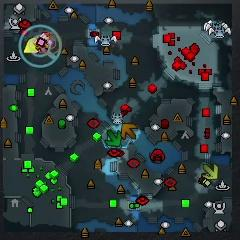p4: (23, 38, 41, 54)
x2: (203, 163, 219, 180)
x3: (107, 133, 117, 140)
x4: (106, 130, 122, 146)
x5: (121, 123, 137, 140)
